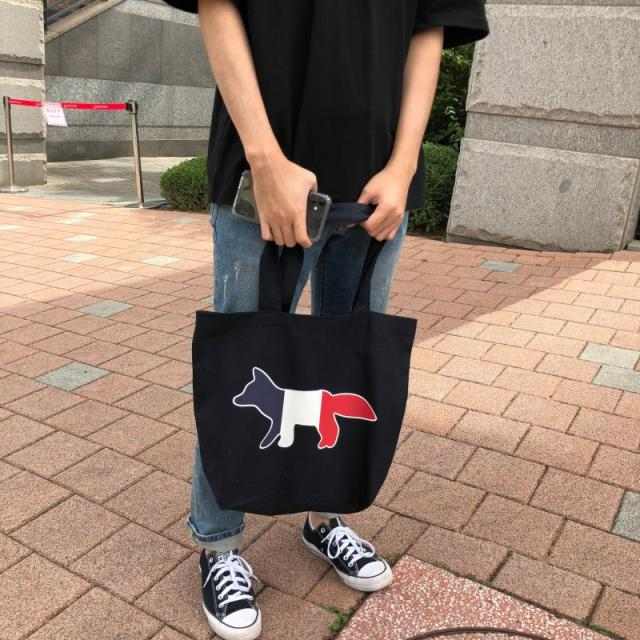ecobag: (160, 188, 434, 530)
